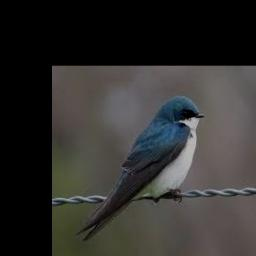Swallow: (75, 96, 207, 241)
